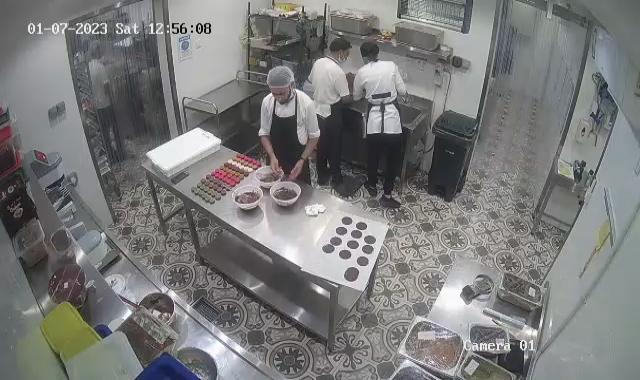hairnet: (265, 65, 296, 94)
no_hairnet: (360, 41, 381, 62), (328, 37, 350, 55)
